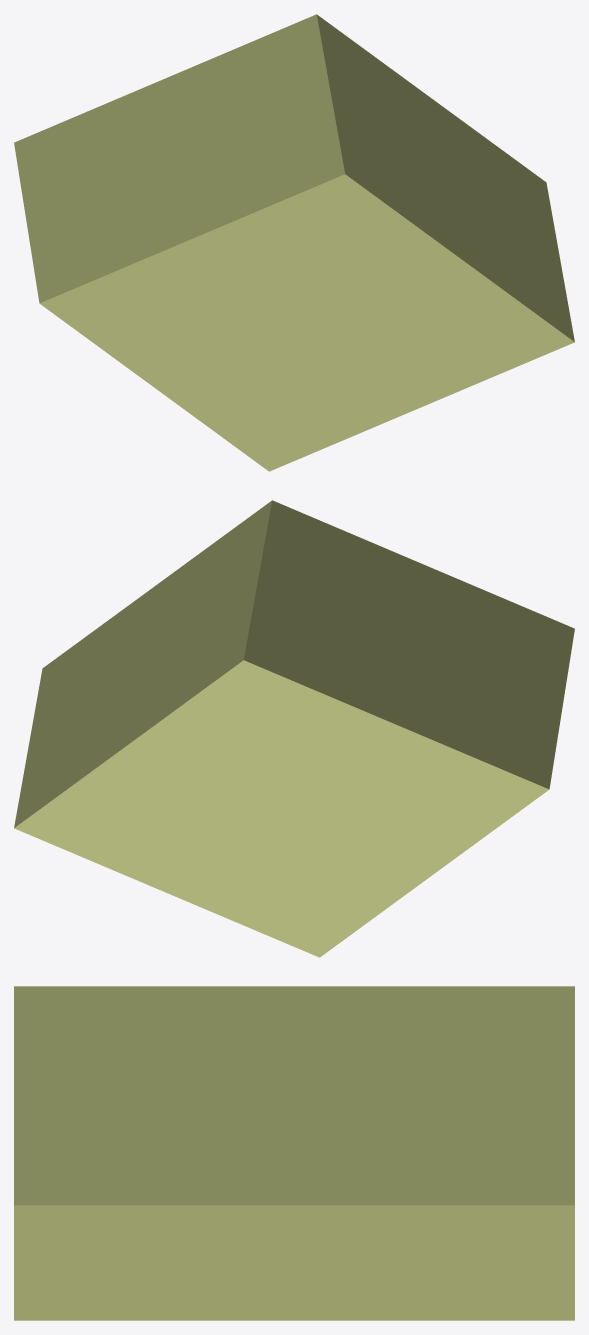
3 renders of one model, top to bottom at view 1: azimuth 30°, elevation 25°; view 2: azimuth 150°, elevation 25°; view 3: azimuth 270°, elevation 25°, orthographic. The views are drawn at different scales.
Parts seen in each view (by area): view 1: 0_1_2_3_3_3_3_3_0_2_1; view 2: 0_1_2_3_3_3_3_3_0_2_1; view 3: 0_1_2_3_3_3_3_3_0_2_1.
Part boxes in pixels (x1,y1,x2,y2): 0_1_2_3_3_3_3_3_0_2_1: (14,14,574,471); 0_1_2_3_3_3_3_3_0_2_1: (14,500,574,957); 0_1_2_3_3_3_3_3_0_2_1: (14,986,574,1320).
Bounding box in the file's own units: 4.99 × 3.19 × 6.
